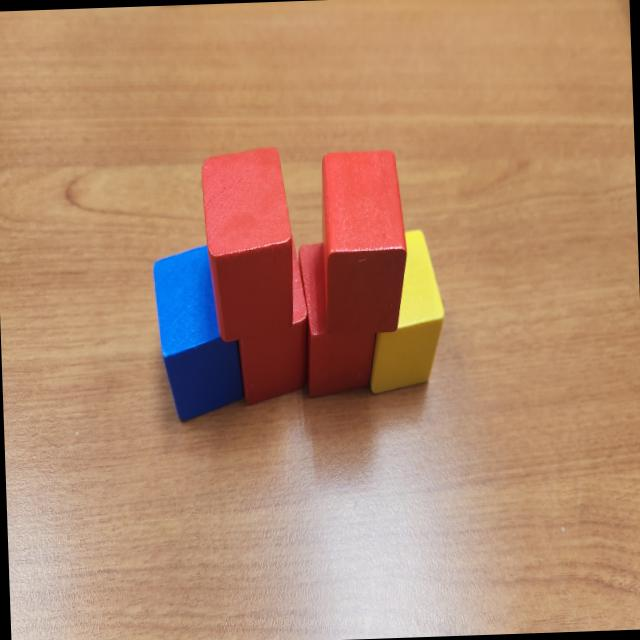blue: (153, 240, 250, 422)
red: (200, 145, 294, 342), (318, 148, 409, 334), (234, 232, 310, 406), (298, 241, 378, 398)
yellow: (358, 226, 448, 397)
